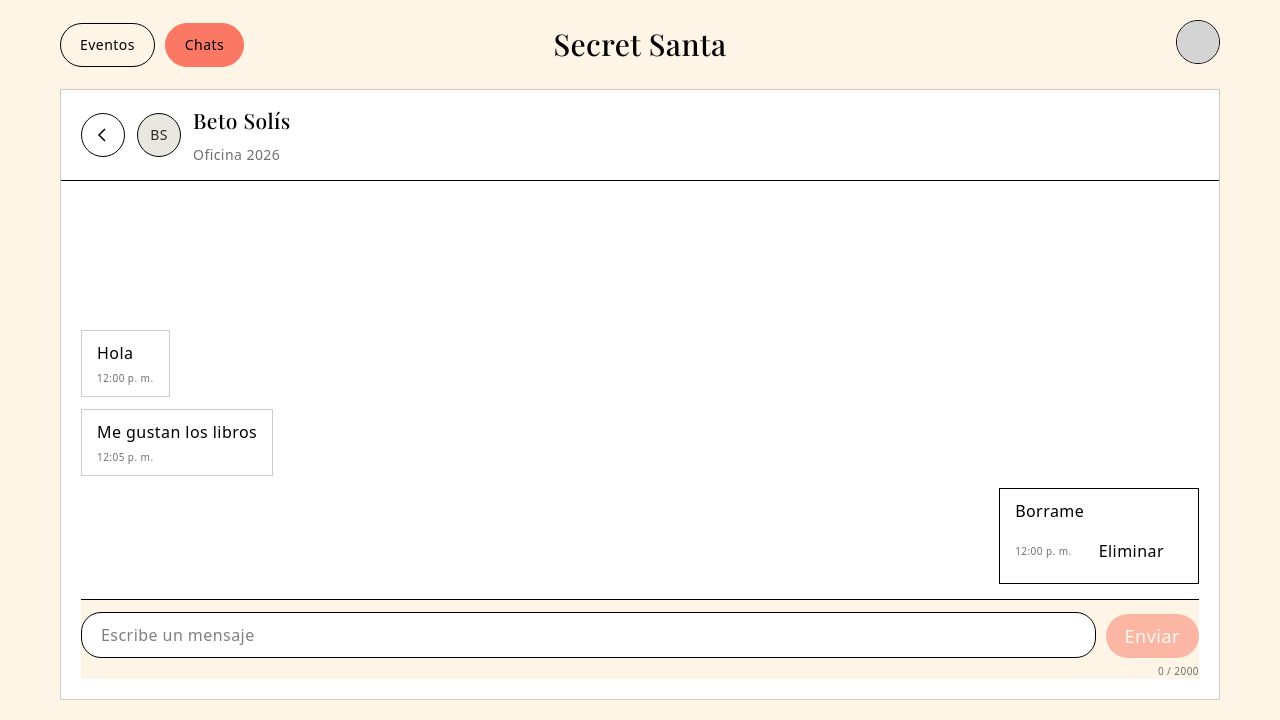
it: Thread page › deletes my message after a confirm, leaving a placeholder
Expected: the list named "Mensajes" is shown, [81,330,1199,584]
Click the button with aria-label "Eliminar tu mensaje".
click(1131, 551)  # box [1080,529,1183,573]
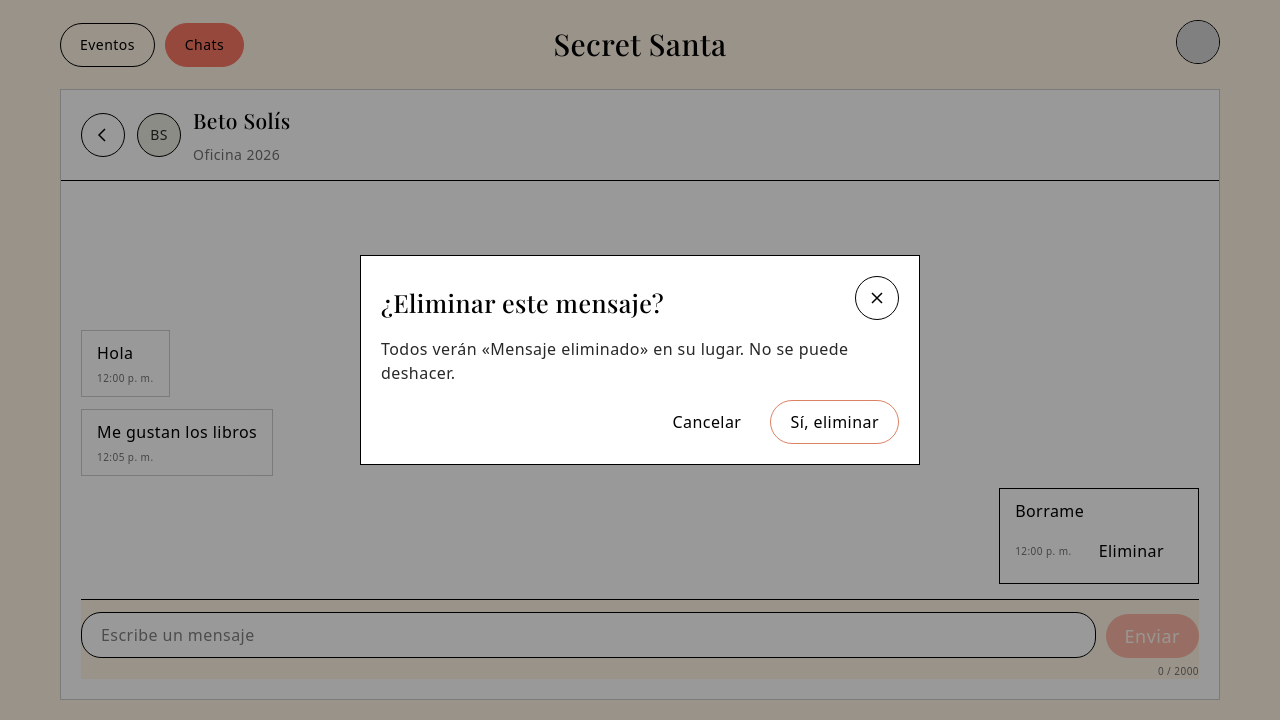
Click the button "Sí, eliminar".
click(835, 422)  # box [770,400,899,444]
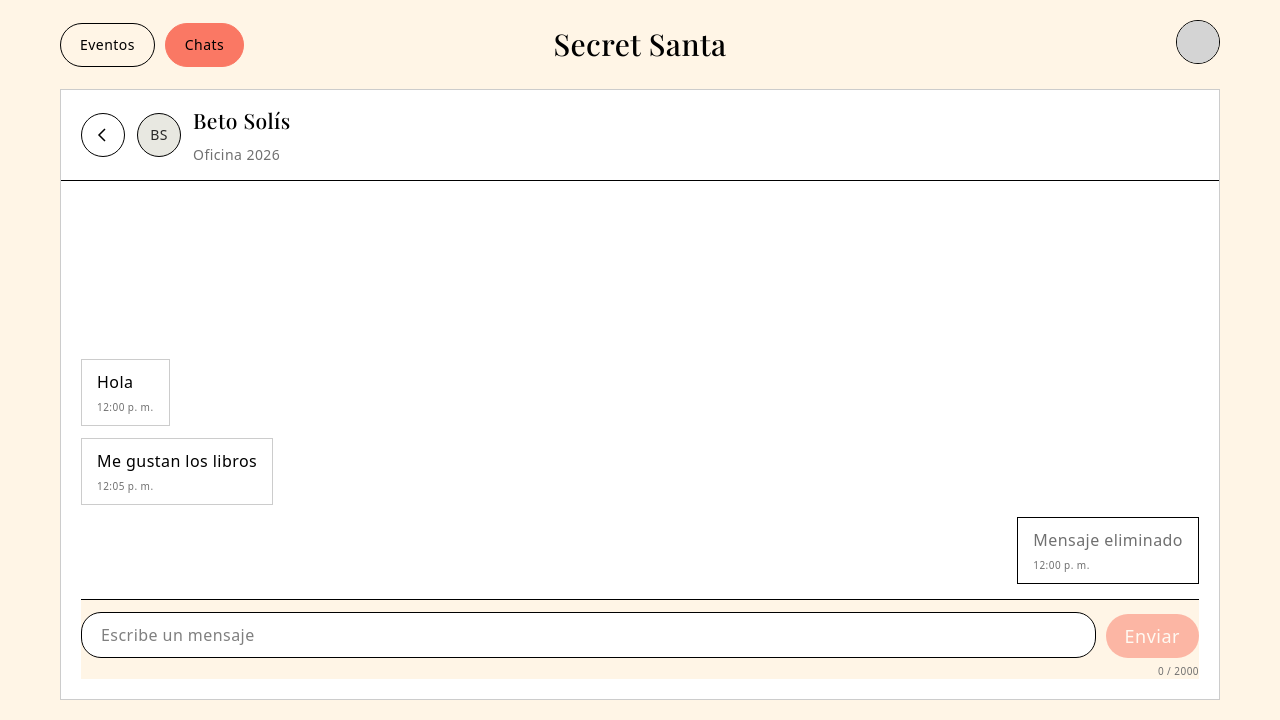
Expected: the text "Mensaje eliminado" is shown, [1033,529,1183,551]
Expected: the text "Borrame" is gone
